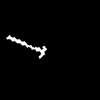half_double_crochet: (7, 35, 46, 57)
